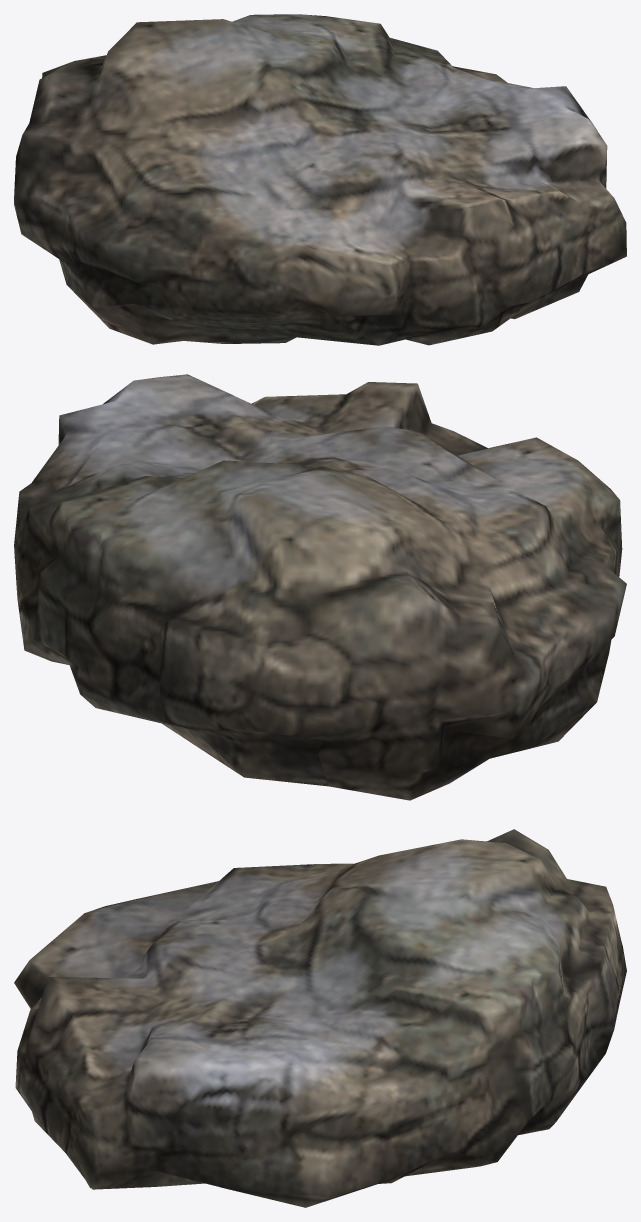
File: Rock6A.FBX
3 renders of one model, top to bottom at view 1: azimuth 30°, elevation 25°; view 2: azimuth 150°, elevation 25°; view 3: azimuth 270°, elevation 25°, orthographic. The views are drawn at different scales.
Visible parts, largest first — view 1: Rock6A; view 2: Rock6A; view 3: Rock6A.
Boxes of the visible parts, left/top/right/bottom form: Rock6A: left=14, top=14, right=626, bottom=345; Rock6A: left=14, top=374, right=626, bottom=800; Rock6A: left=14, top=829, right=626, bottom=1207.
Size of the model in its own units: 4.3 by 1.91 by 4.24.
